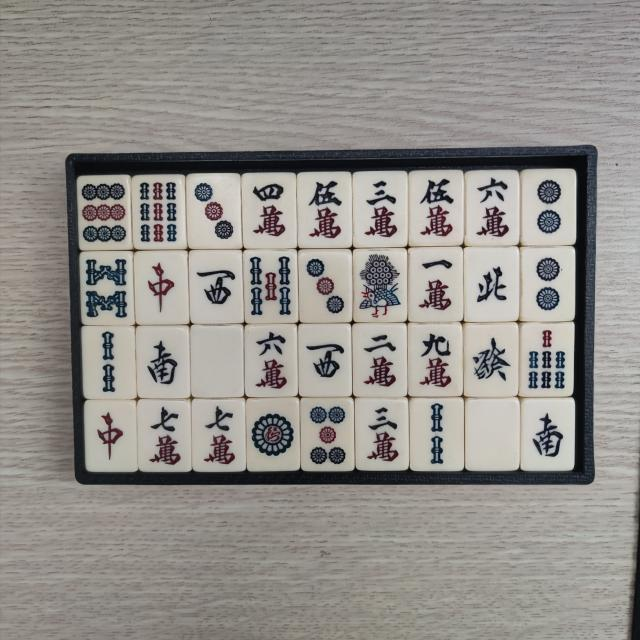hdg: (469, 328, 513, 392)
hdr: (140, 256, 182, 320), (90, 404, 130, 467)
hdw: (196, 330, 239, 392), (472, 404, 514, 466)
hwn: (470, 252, 514, 316)
hws: (142, 331, 184, 394), (527, 404, 568, 466)
hww: (194, 254, 238, 320), (302, 328, 348, 391)
sb1: (356, 252, 403, 320)
sb2: (86, 331, 132, 396), (415, 402, 458, 468)
sb5: (248, 254, 294, 318)
sb7: (526, 327, 570, 392)
sb8: (84, 256, 130, 322)
sb9: (138, 180, 183, 246)
sc1: (414, 252, 457, 317)
sc2: (356, 329, 402, 392)
sc3: (359, 176, 403, 241), (361, 402, 403, 465)
sc4: (248, 178, 293, 244)
sc5: (303, 176, 347, 243), (416, 173, 460, 240)
sc6: (472, 173, 515, 240), (251, 328, 293, 394)
sc7: (197, 402, 241, 470), (144, 403, 188, 468)
sc9: (415, 328, 459, 393)
sd1: (251, 404, 297, 468)
sd2: (527, 172, 569, 240), (526, 253, 568, 318)
sd3: (191, 178, 238, 244), (302, 254, 348, 318)
sd5: (305, 402, 349, 466)
sd9: (84, 178, 130, 246)
